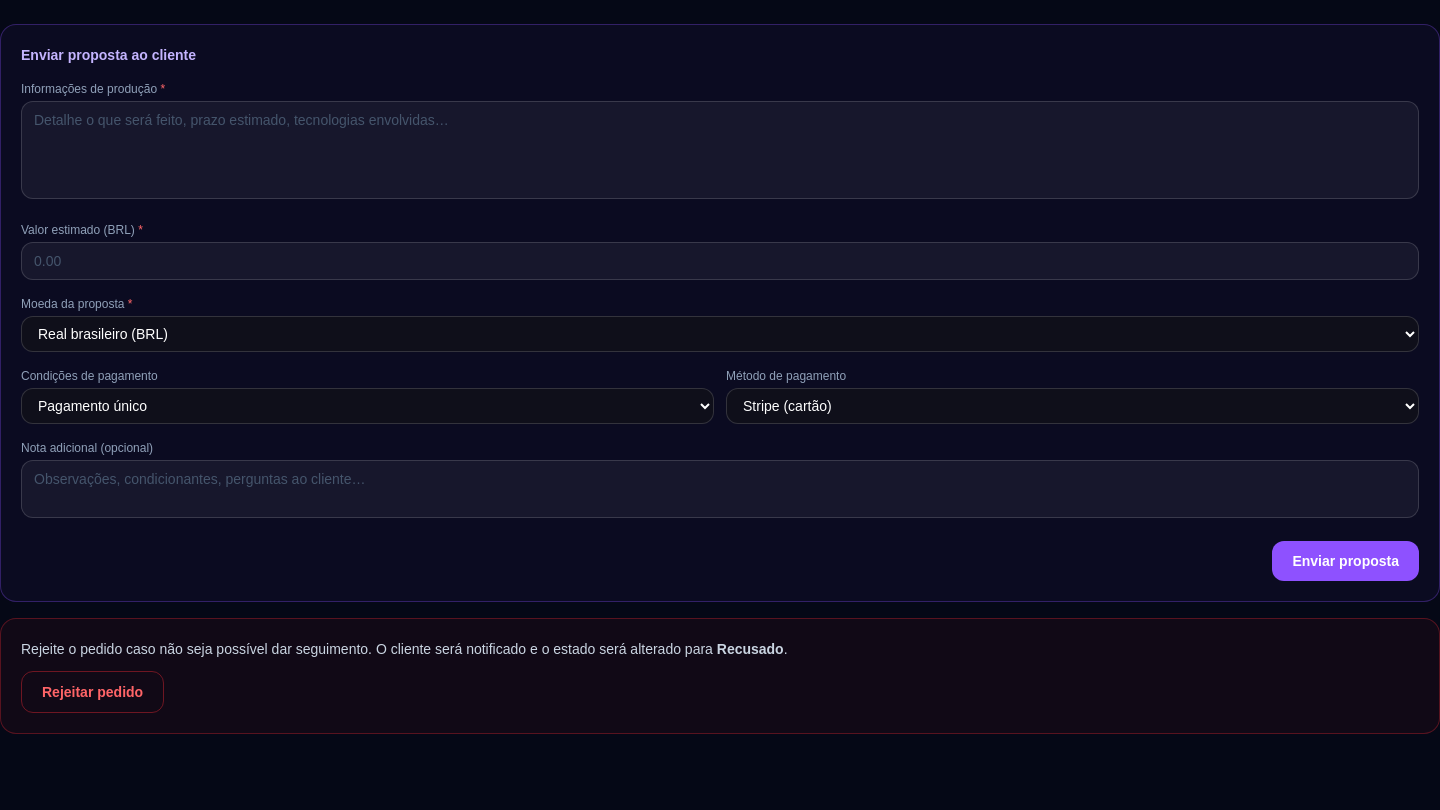
Test case: OrderAdminActions › valida campos obrigatorios antes de enviar proposta
Click the button "Enviar proposta" at (1346, 561), box [1272,541,1419,581]
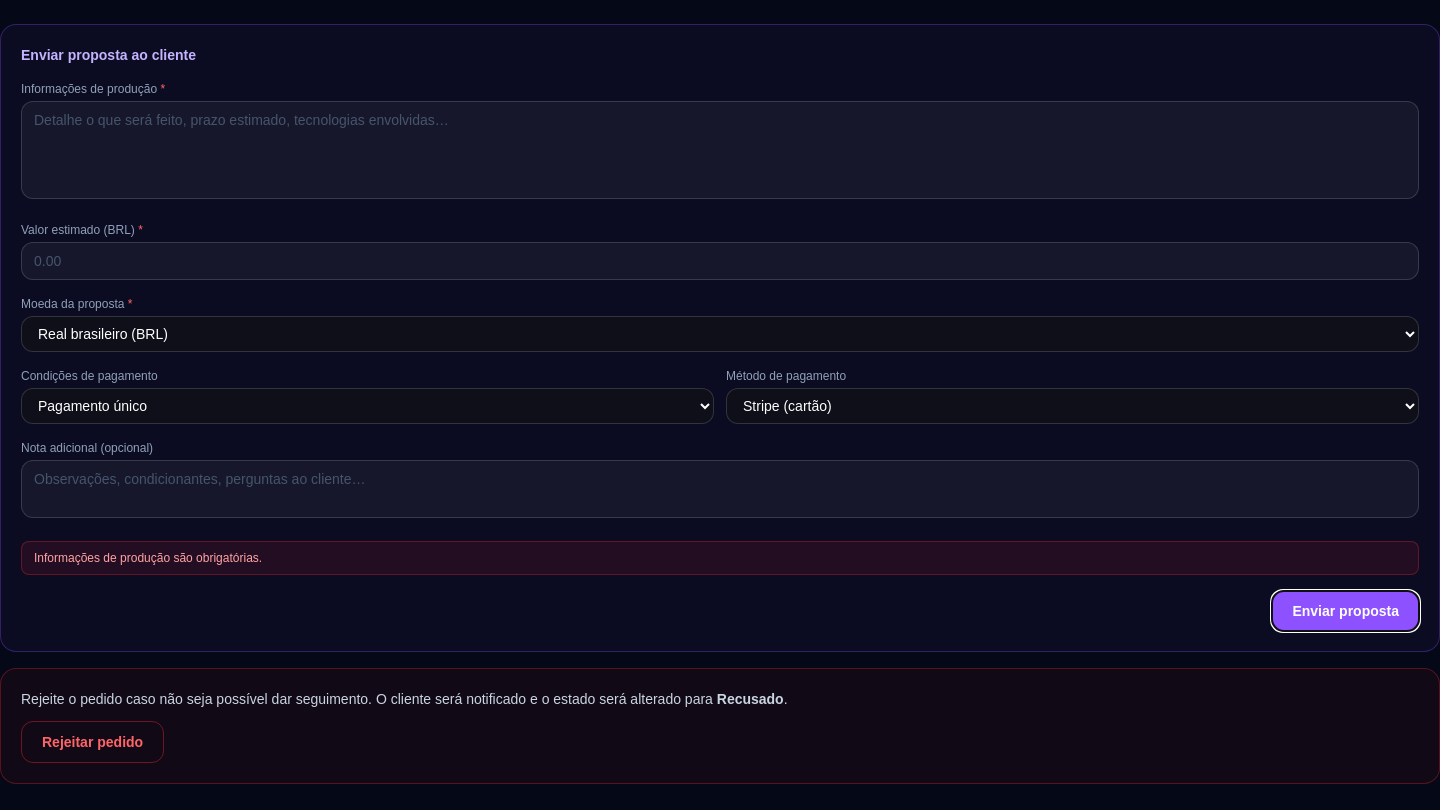
Expected: the text "Informações de produção são obrigatórias." is shown, [21,541,1419,575]
